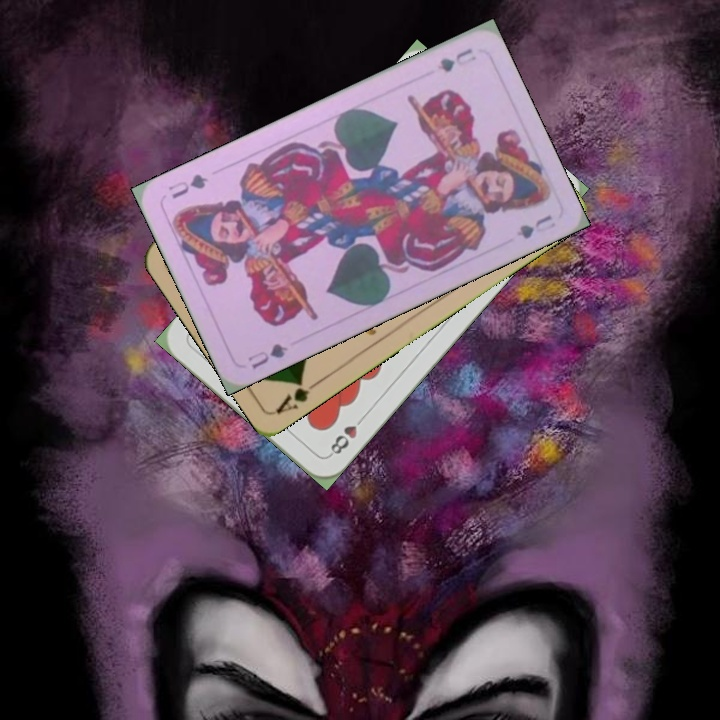GA: (272, 374, 324, 417)
GU: (244, 339, 291, 372), (433, 43, 479, 75)
H8: (325, 410, 368, 459)
